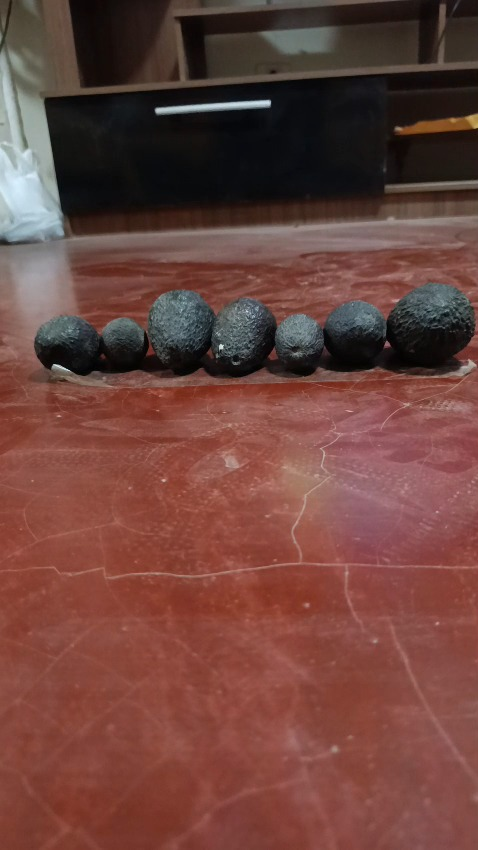Primera: (385, 282, 475, 366), (147, 289, 215, 374)
Segunda: (210, 297, 276, 376), (322, 300, 387, 368), (34, 315, 100, 375)
Tercera: (274, 313, 324, 375), (101, 317, 147, 370)
